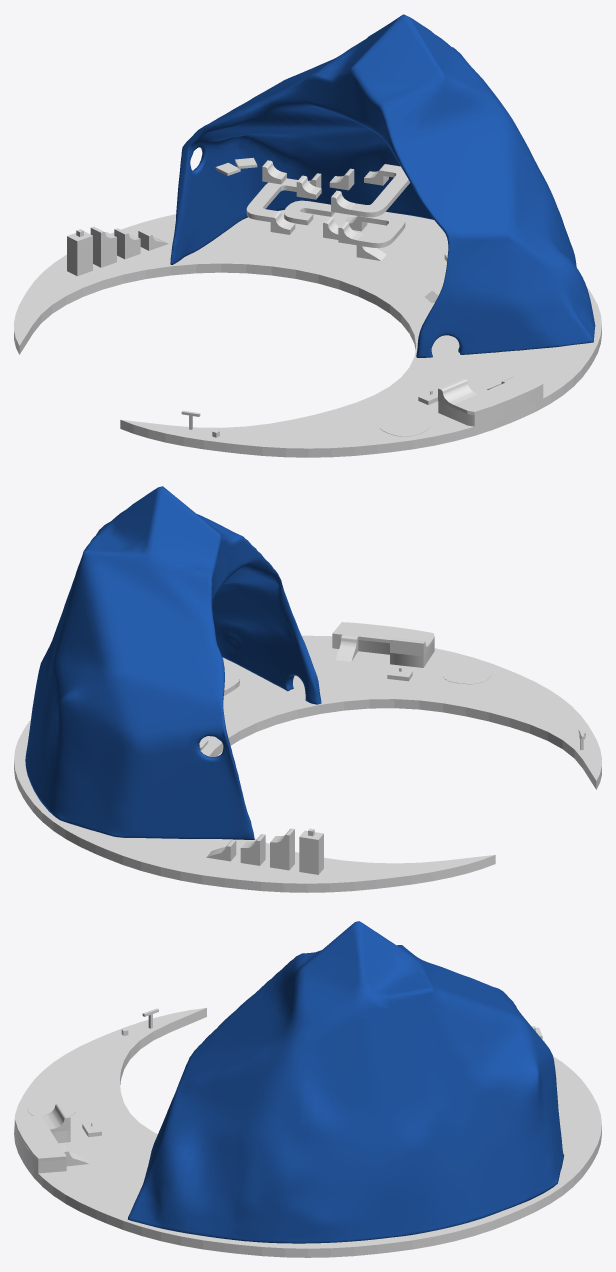
File: Curve_fixed_antarctica.fbx
The picture shows the model from 3 angles, top to bottom: view 1: azimuth 30°, elevation 25°; view 2: azimuth 150°, elevation 25°; view 3: azimuth 270°, elevation 25°; orthographic projection.
Parts seen in each view (by area): view 1: cave_lowpoly_zbrush_square001, Cylinder009, Ice_Cliff_009, Box198, Ice_Lake_009, IceSlope_185, IceCurve_073, Ice_Block_101; view 2: cave_lowpoly_zbrush_square001, Cylinder009, Ice_Cliff_009, Box198, Ice_Lake_009, IceSlope_185; view 3: cave_lowpoly_zbrush_square001, Cylinder009, Ice_Cliff_009, Box198, Ice_Lake_009, IceSlope_185.
Boxes of the visible parts, x1=… form: cave_lowpoly_zbrush_square001: x1=170, y1=14, x2=595, y2=357; Cylinder009: x1=14, y1=210, x2=601, y2=457; Ice_Cliff_009: x1=453, y1=374, x2=543, y2=415; Box198: x1=438, y1=387, x2=543, y2=426; Ice_Lake_009: x1=379, y1=415, x2=430, y2=436; IceSlope_185: x1=438, y1=378, x2=477, y2=407; IceCurve_073: x1=284, y1=200, x2=321, y2=225; Ice_Block_101: x1=372, y1=175, x2=410, y2=209; cave_lowpoly_zbrush_square001: x1=25, y1=486, x2=321, y2=839; Cylinder009: x1=14, y1=635, x2=601, y2=892; Ice_Cliff_009: x1=332, y1=622, x2=434, y2=647; Box198: x1=332, y1=637, x2=434, y2=667; Ice_Lake_009: x1=442, y1=663, x2=491, y2=684; IceSlope_185: x1=390, y1=638, x2=429, y2=656; cave_lowpoly_zbrush_square001: x1=127, y1=921, x2=564, y2=1243; Cylinder009: x1=14, y1=1007, x2=601, y2=1257; Ice_Cliff_009: x1=15, y1=1115, x2=66, y2=1161; Box198: x1=15, y1=1123, x2=70, y2=1173; Ice_Lake_009: x1=27, y1=1098, x2=76, y2=1115; IceSlope_185: x1=41, y1=1103, x2=70, y2=1132.
Size of the model in its own units: 103 by 54.08 by 106.
